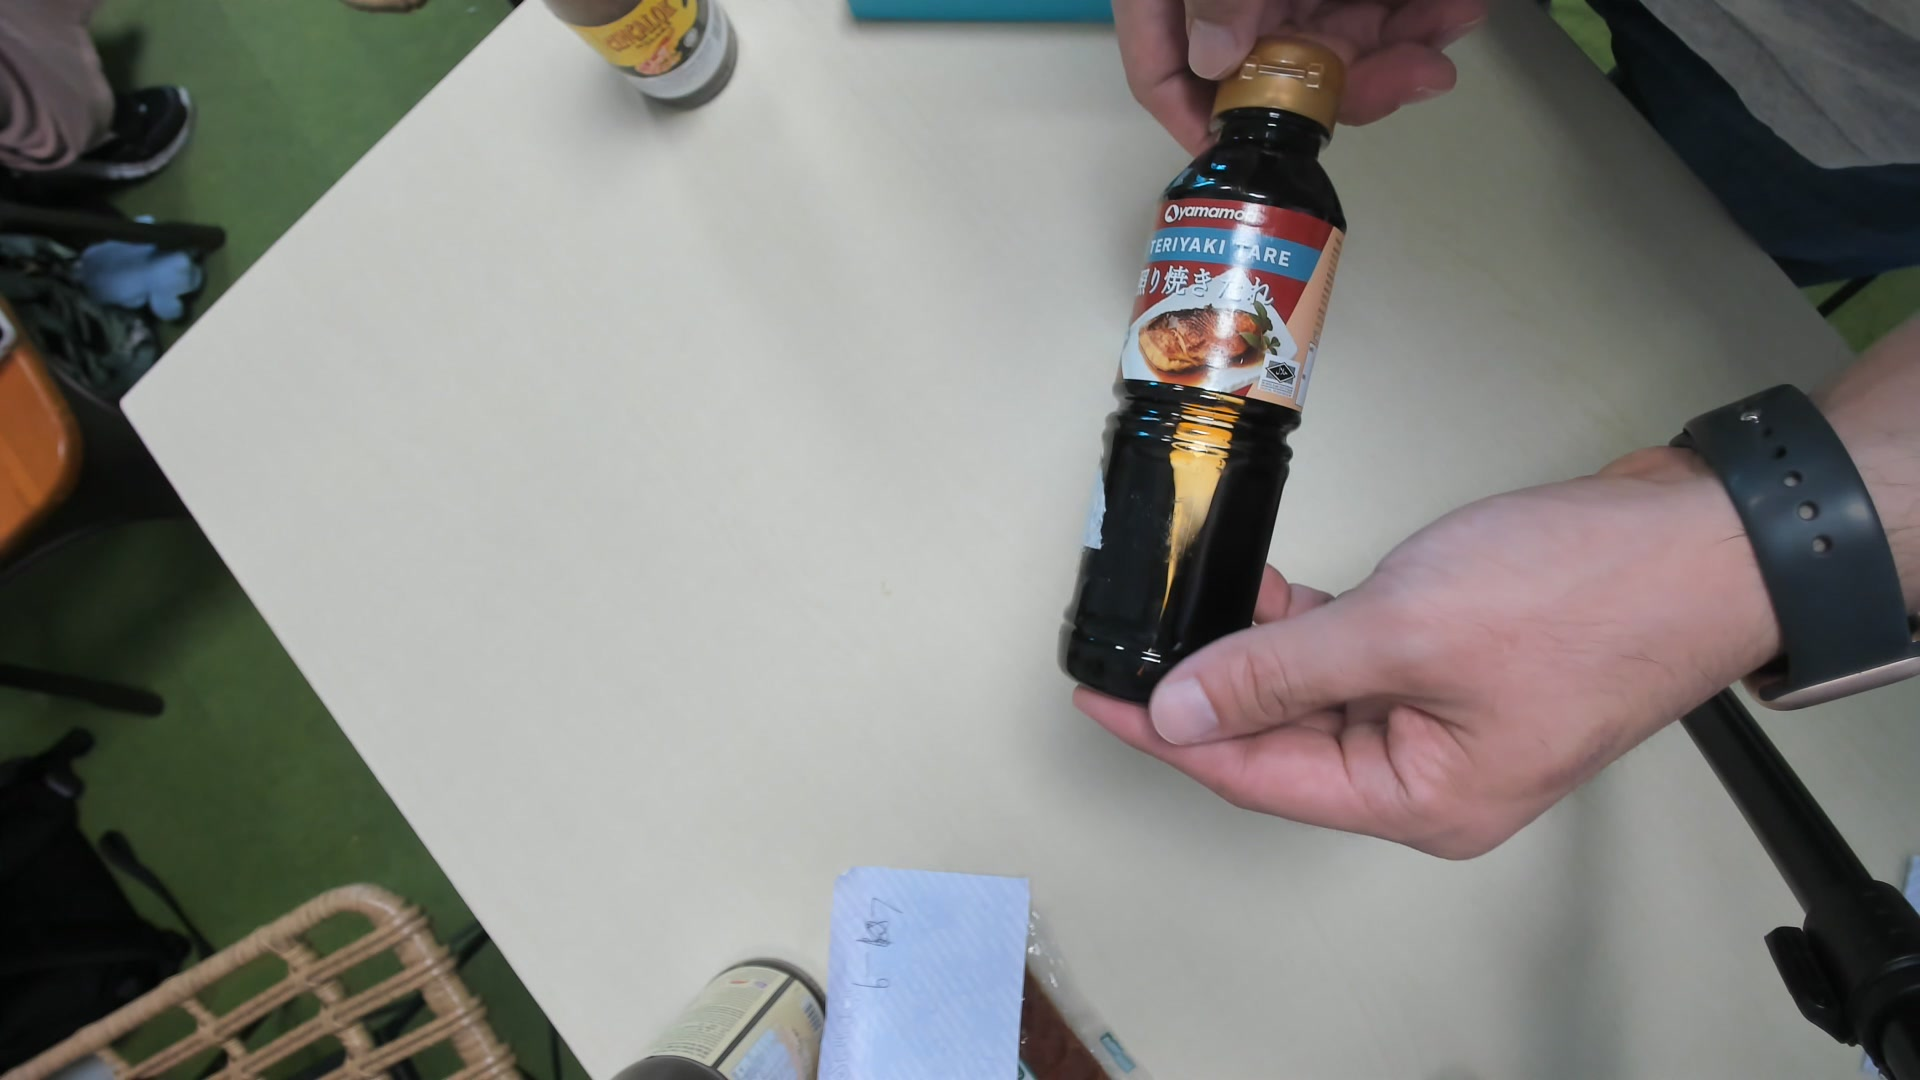OtherSauceDressingSoupbasePaste_200-299g_Halal_NonHealthy: (1067, 41, 1342, 725)
